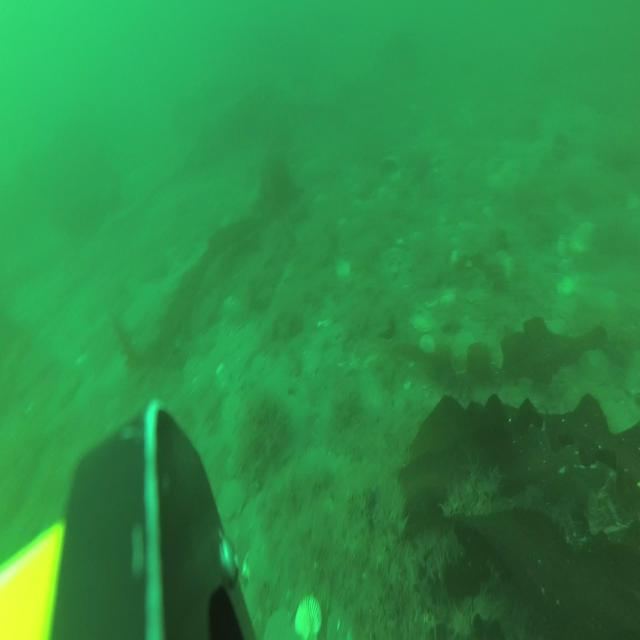scallop: (216, 476, 249, 523), (295, 592, 323, 640), (260, 607, 294, 640), (552, 272, 580, 302), (223, 444, 246, 476), (300, 347, 322, 380), (407, 310, 433, 334), (332, 257, 352, 283), (419, 334, 436, 354)
